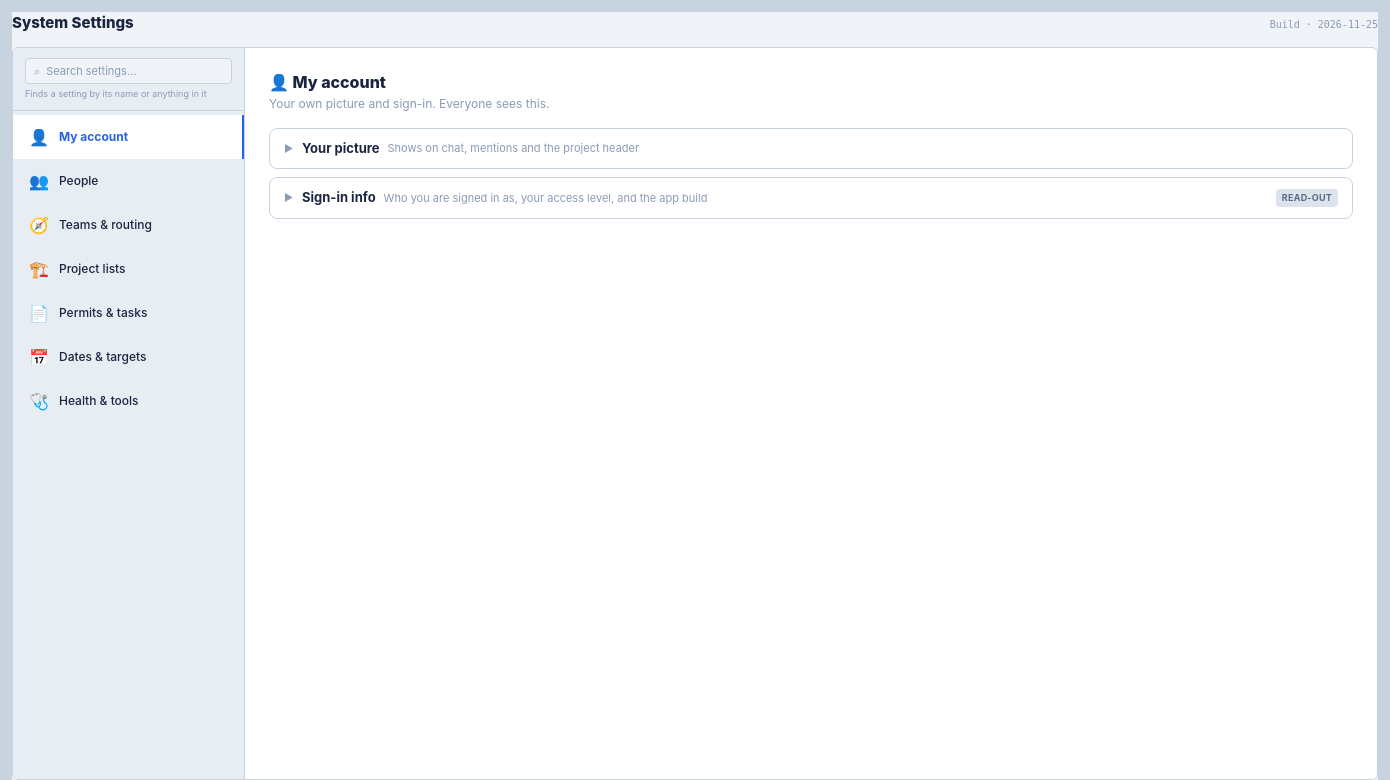
Test: fix-611 §D — the search box, rendered › ★★★ clearing the box returns to the category
Step 1. Type "Kirkland" into the field with test id "settings-search" → (135, 71), box x1=46 y1=62 x2=223 y2=79
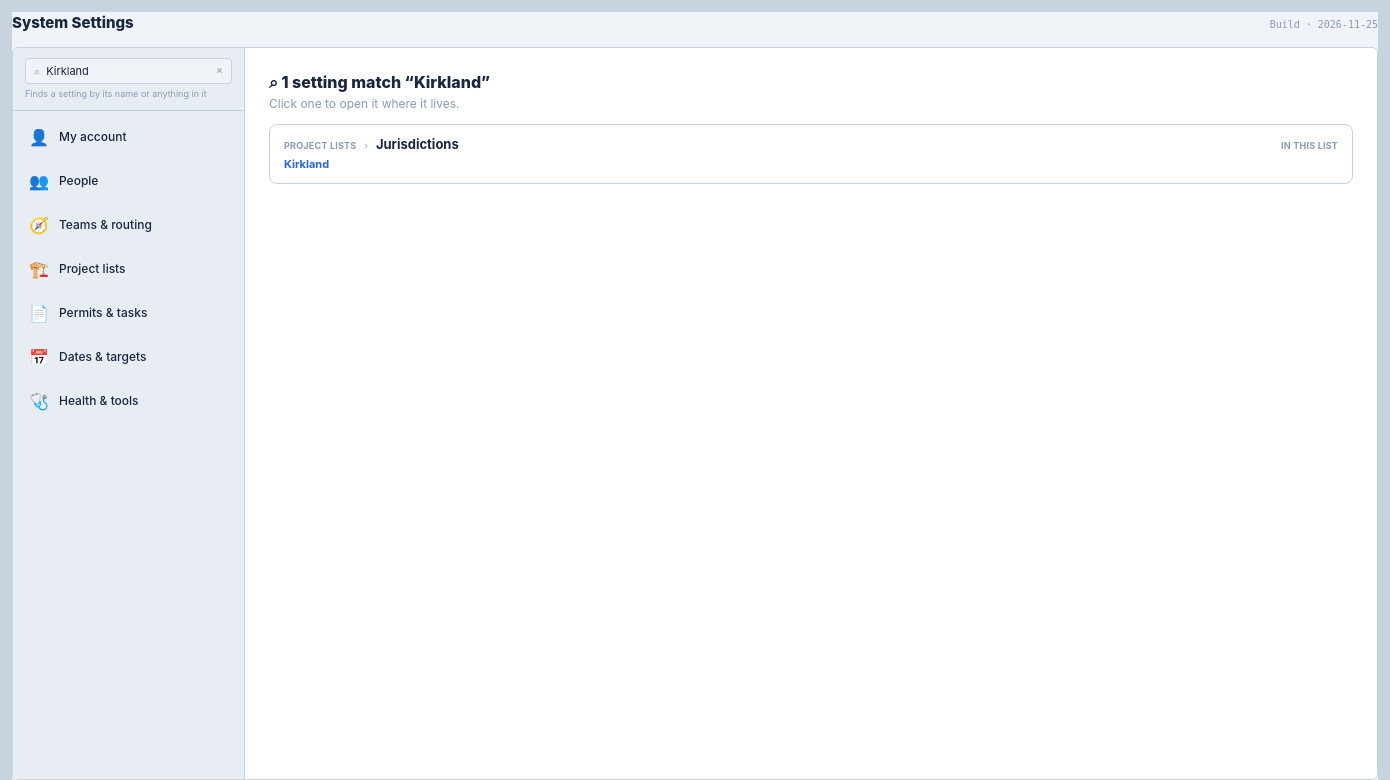
Result: the element with test id "settings-search-results" is shown at x1=269 y1=70 x2=1353 y2=184
Step 2. Clear the field with test id "settings-search" → (128, 71), box x1=46 y1=62 x2=210 y2=79
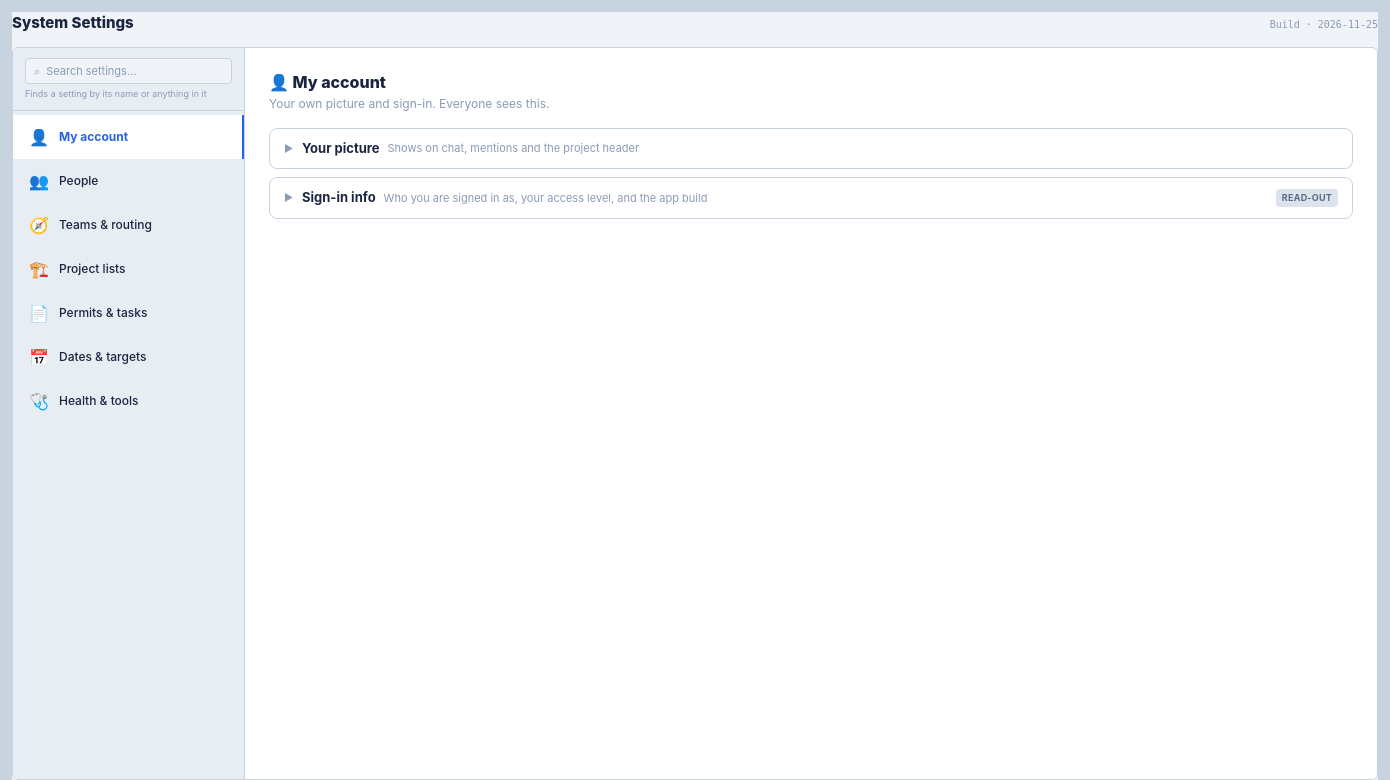
Result: the element with test id "settings-search-results" is gone
Result: the element with test id "settings-block-your-picture" is shown at x1=269 y1=128 x2=1353 y2=169
